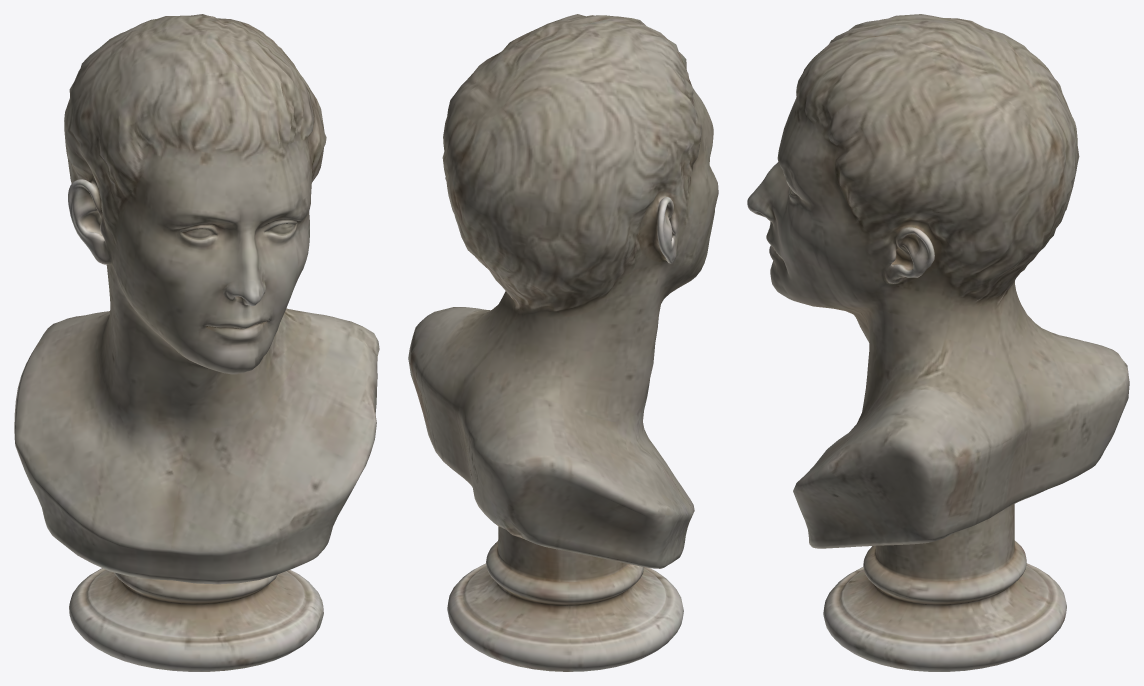
Rendered from marble_bust_01.glb.
The picture shows the model from 3 angles, left to right: view 1: azimuth 30°, elevation 25°; view 2: azimuth 150°, elevation 25°; view 3: azimuth 270°, elevation 25°; orthographic projection. The views are drawn at different scales.
Parts seen in each view (by area): view 1: marble_bust_01; view 2: marble_bust_01; view 3: marble_bust_01.
Boxes of the visible parts, box(x1,y1,x2,y2) form: marble_bust_01: box(14, 14, 379, 671); marble_bust_01: box(408, 14, 718, 671); marble_bust_01: box(747, 14, 1129, 671).
Bounding box in the file's own units: 0.2718 × 0.5149 × 0.2997.
Materials: 1 (1 with a texture image).
